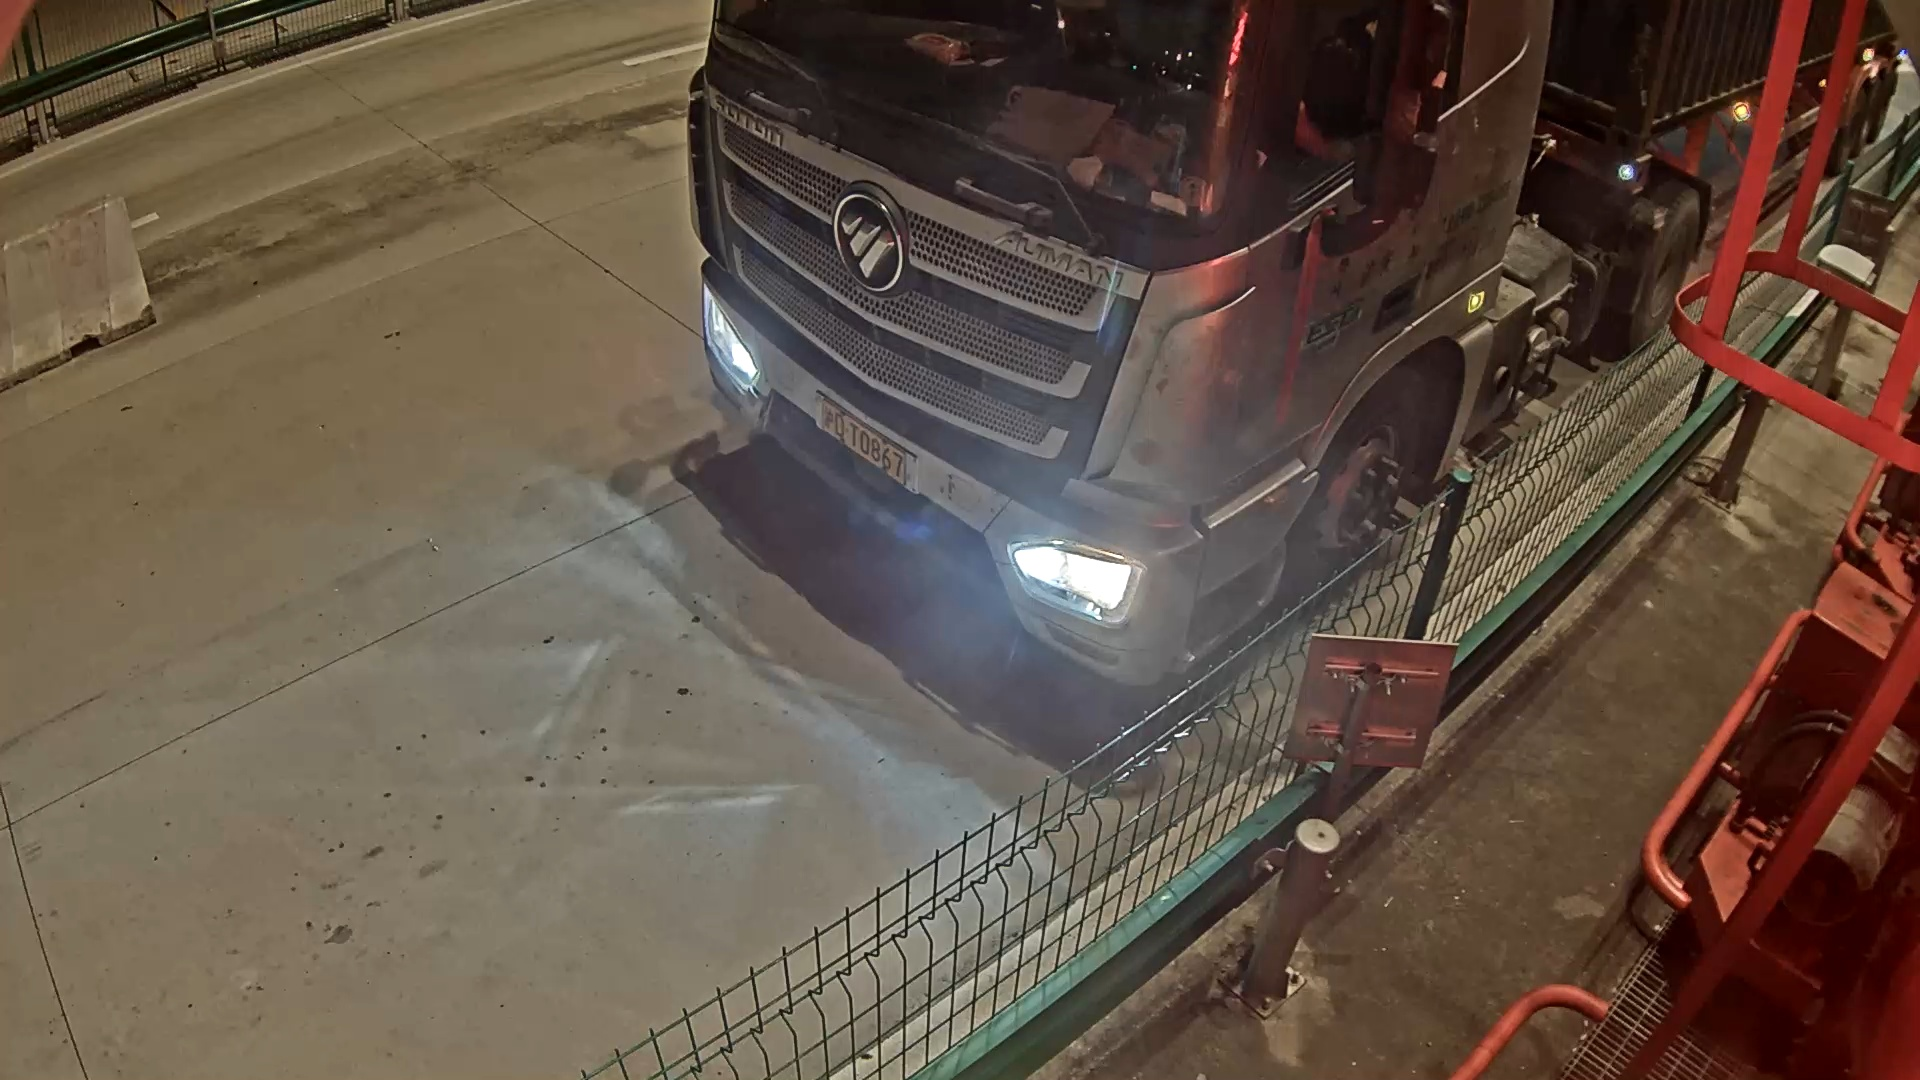head: (684, 30, 1354, 731)
plate: (818, 390, 910, 497)
